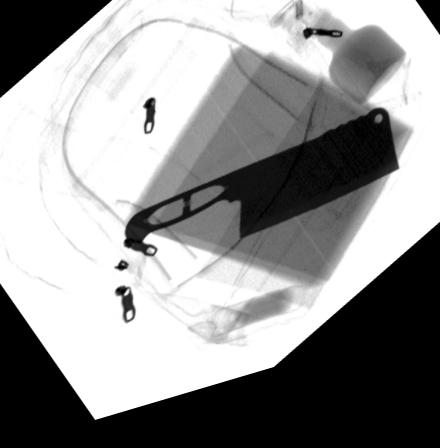Knife: (122, 127, 399, 255)
